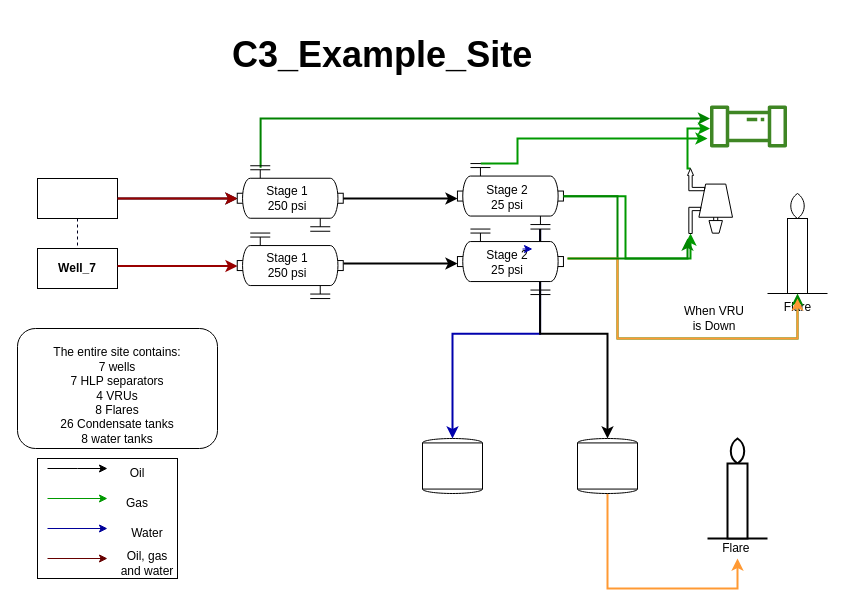
Some shapes in this 845 by 614 pixel diagram are drawn without their labels. Here are the shapes that lost their labels. From the top down, the centre of each, then its label:
At pixel 748 126: "Pipeline".
At pixel 77 198: "Well_1".
At pixel 452 466: "Water tank".
At pixel 607 466: "Oil Tank".
